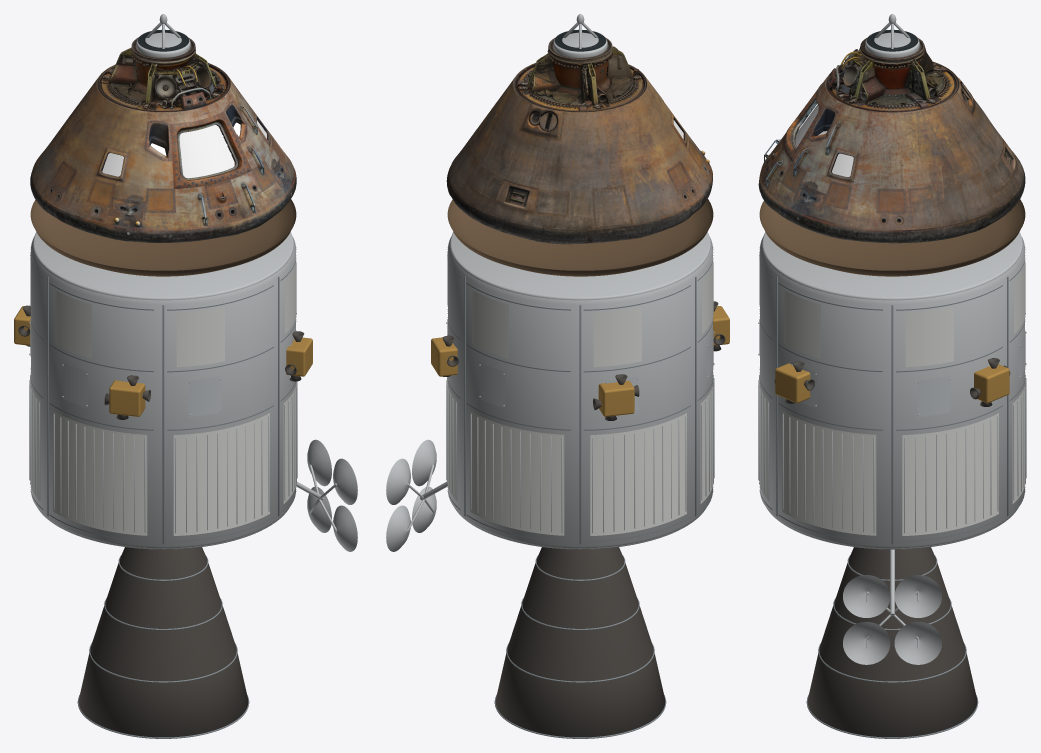
File: apollo-csm.glb
3 renders of one model, left to right at view 1: azimuth 30°, elevation 25°; view 2: azimuth 150°, elevation 25°; view 3: azimuth 270°, elevation 25°, orthographic.
Parts seen in each view (by area): view 1: SM-Service module aluminum, CM-Scan-shell-90k-uvs-150k-4096-high, SM-Thermal radiator white coating, SM-SPS nozzle radiative finish, CM-Heat shield ablator, SM-Ceramic light gray, CM-Scan-top-160k-uvs-150k-4096-high, SM-Machined anodized edges, CM-Scan-filler-web, SM-Service module insulation, CM-Service module aluminum; view 2: SM-Service module aluminum, CM-Scan-shell-90k-uvs-150k-4096-high, SM-Thermal radiator white coating, SM-SPS nozzle radiative finish, CM-Heat shield ablator, SM-Ceramic light gray, CM-Scan-top-160k-uvs-150k-4096-high, SM-Machined anodized edges, SM-Service module insulation, CM-Service module aluminum; view 3: SM-Service module aluminum, CM-Scan-shell-90k-uvs-150k-4096-high, SM-Thermal radiator white coating, SM-SPS nozzle radiative finish, CM-Heat shield ablator, SM-Ceramic light gray, CM-Scan-top-160k-uvs-150k-4096-high, SM-Machined anodized edges, SM-Service module insulation, CM-Service module aluminum, CM-Scan-filler-web, CM-Elastomer seals.
Part boxes in pixels (box(x1,y1,x2,y2)): SM-Service module aluminum: box(31, 232, 357, 551); CM-Scan-shell-90k-uvs-150k-4096-high: box(30, 63, 296, 242); SM-Thermal radiator white coating: box(30, 251, 296, 535); SM-SPS nozzle radiative finish: box(18, 305, 304, 737); CM-Heat shield ablator: box(30, 199, 296, 276); SM-Ceramic light gray: box(29, 319, 297, 533); CM-Scan-top-160k-uvs-150k-4096-high: box(98, 37, 229, 112); SM-Machined anodized edges: box(30, 247, 296, 738); CM-Scan-filler-web: box(102, 120, 266, 178); SM-Service module insulation: box(14, 306, 312, 416); CM-Service module aluminum: box(136, 14, 190, 57); SM-Service module aluminum: box(386, 232, 712, 551); CM-Scan-shell-90k-uvs-150k-4096-high: box(446, 63, 712, 244); SM-Thermal radiator white coating: box(447, 251, 713, 535); SM-SPS nozzle radiative finish: box(442, 301, 725, 737); CM-Heat shield ablator: box(447, 199, 713, 276); SM-Ceramic light gray: box(446, 319, 714, 533); CM-Scan-top-160k-uvs-150k-4096-high: box(514, 37, 645, 112); SM-Machined anodized edges: box(447, 247, 713, 738); SM-Service module insulation: box(431, 306, 729, 416); CM-Service module aluminum: box(553, 14, 607, 57); SM-Service module aluminum: box(760, 232, 1024, 664); CM-Scan-shell-90k-uvs-150k-4096-high: box(758, 61, 1025, 243); SM-Thermal radiator white coating: box(759, 251, 1025, 535); SM-SPS nozzle radiative finish: box(774, 358, 1010, 737); CM-Heat shield ablator: box(759, 199, 1025, 276); SM-Ceramic light gray: box(758, 319, 1026, 533); CM-Scan-top-160k-uvs-150k-4096-high: box(826, 37, 958, 112); SM-Machined anodized edges: box(759, 247, 1025, 738); SM-Service module insulation: box(775, 363, 1009, 403); CM-Service module aluminum: box(865, 14, 919, 57); CM-Scan-filler-web: box(795, 104, 853, 176); CM-Elastomer seals: box(866, 29, 918, 51).
Size of the model in its own units: 5.01 by 11.19 by 3.95.
Materials: 12 (2 with a texture image).
